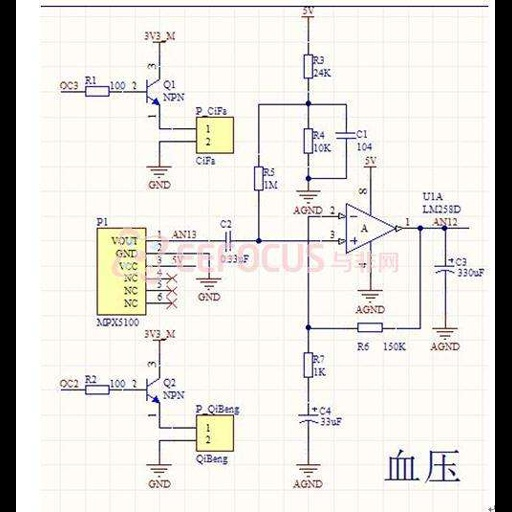amplifier: (344, 199, 397, 257)
capacitor: (219, 230, 238, 254), (333, 127, 356, 143)
firstpolarcapacitor: (433, 253, 456, 277), (296, 405, 319, 428)
firstresistance: (299, 347, 314, 382), (251, 162, 265, 195), (82, 85, 111, 99), (81, 384, 111, 397), (302, 52, 314, 84), (355, 321, 384, 334), (303, 126, 314, 158)
gnd: (293, 460, 325, 478), (143, 462, 176, 478), (431, 325, 461, 341), (145, 163, 174, 179), (295, 188, 322, 205), (194, 276, 224, 291)
npn: (141, 372, 163, 410), (141, 76, 163, 110)
